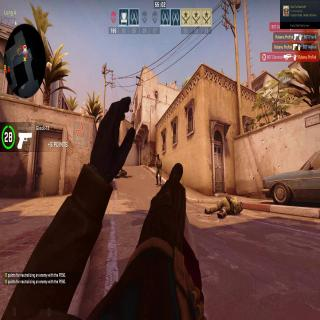CT-Body: (155, 154, 162, 189)
CT-Head: (156, 154, 160, 162)
